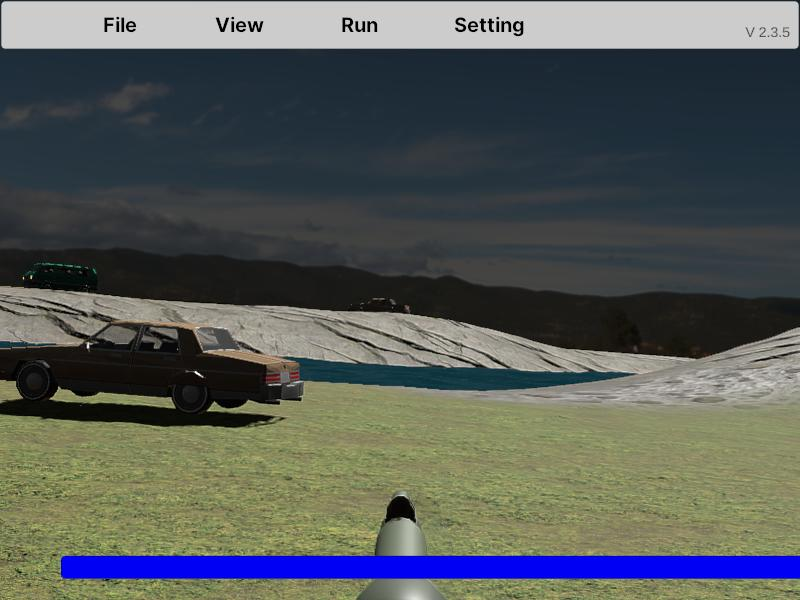car: (2, 320, 304, 415), (23, 261, 98, 295)
